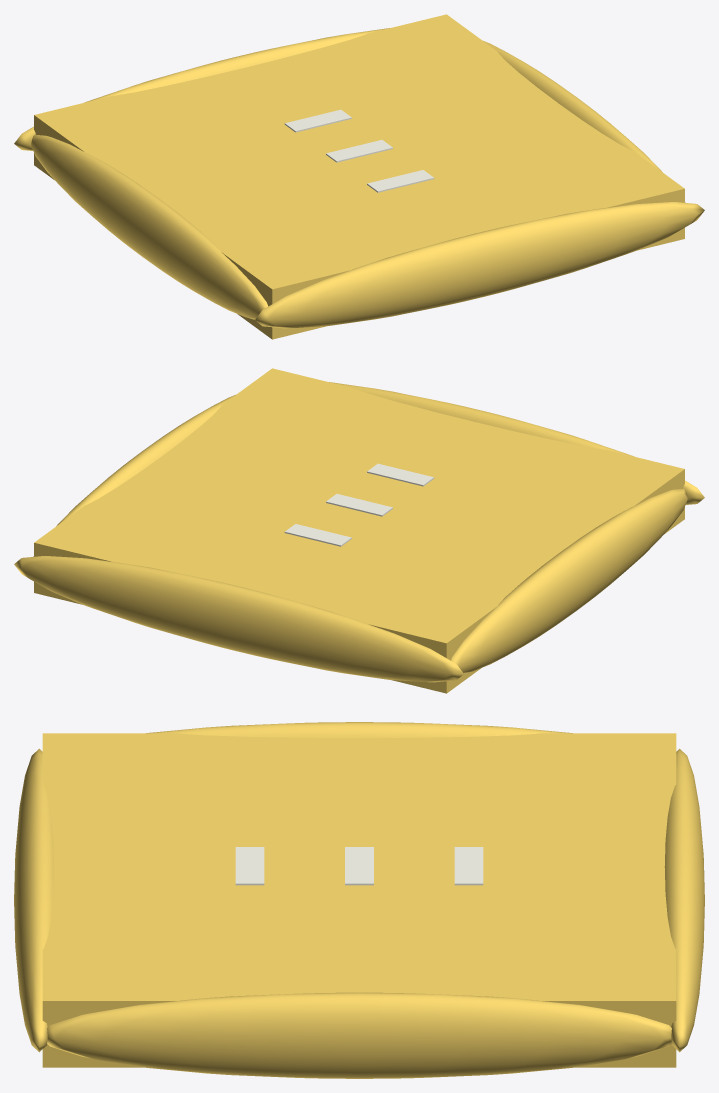
Rendered from course_checkpoint.glb.
3 views of the same model, one above another, from view 1: azimuth 30°, elevation 25°; view 2: azimuth 150°, elevation 25°; view 3: azimuth 270°, elevation 25° (orthographic). The views are drawn at different scales.
Parts seen in each view (by area): view 1: flat inflatable deck, seamed rim (×4), route stripe (×3); view 2: flat inflatable deck, seamed rim (×4), route stripe (×3); view 3: flat inflatable deck, seamed rim (×4), route stripe (×3).
Part boxes in pixels (<box>): flat inflatable deck: <box>34,14,684,339</box>; seamed rim (×4): <box>14,28,704,328</box>; route stripe (×3): <box>284,109,434,192</box>; flat inflatable deck: <box>34,368,684,693</box>; seamed rim (×4): <box>14,382,704,682</box>; route stripe (×3): <box>284,463,434,546</box>; flat inflatable deck: <box>42,733,676,1067</box>; seamed rim (×4): <box>14,722,704,1078</box>; route stripe (×3): <box>235,847,483,885</box>.
Bounding box in the file's own units: 6 × 0.8 × 6.
